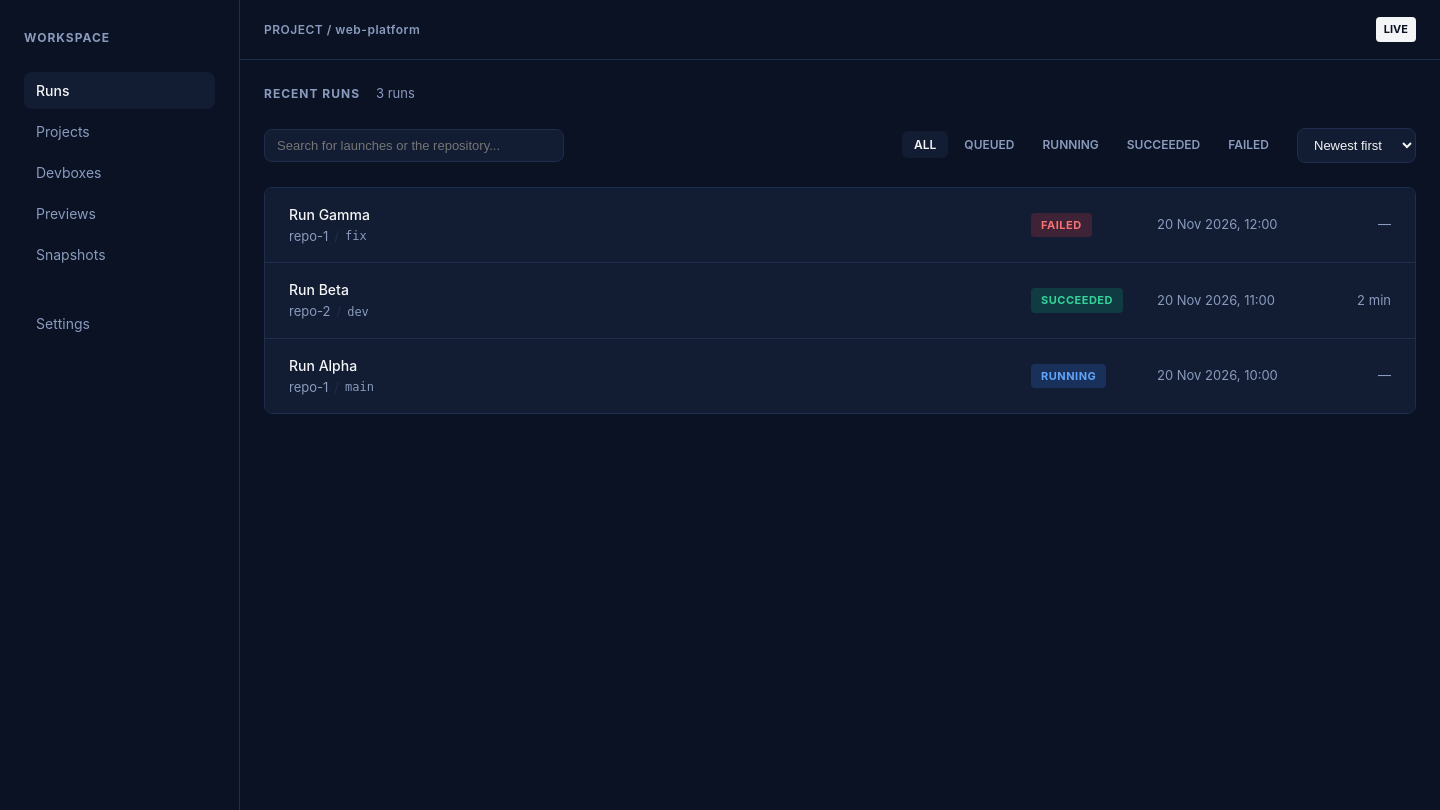
Test: App Integration Tests › 6. should display error styling in details drawer for a failed run
This screenshot has width=1440, height=810.
expect the heading "Run Beta" is shown: met, box [289,281,349,298]
Click the button with aria-label "Open launch details Run Gamma".
click(329, 214)  # box [265,188,1415,263]
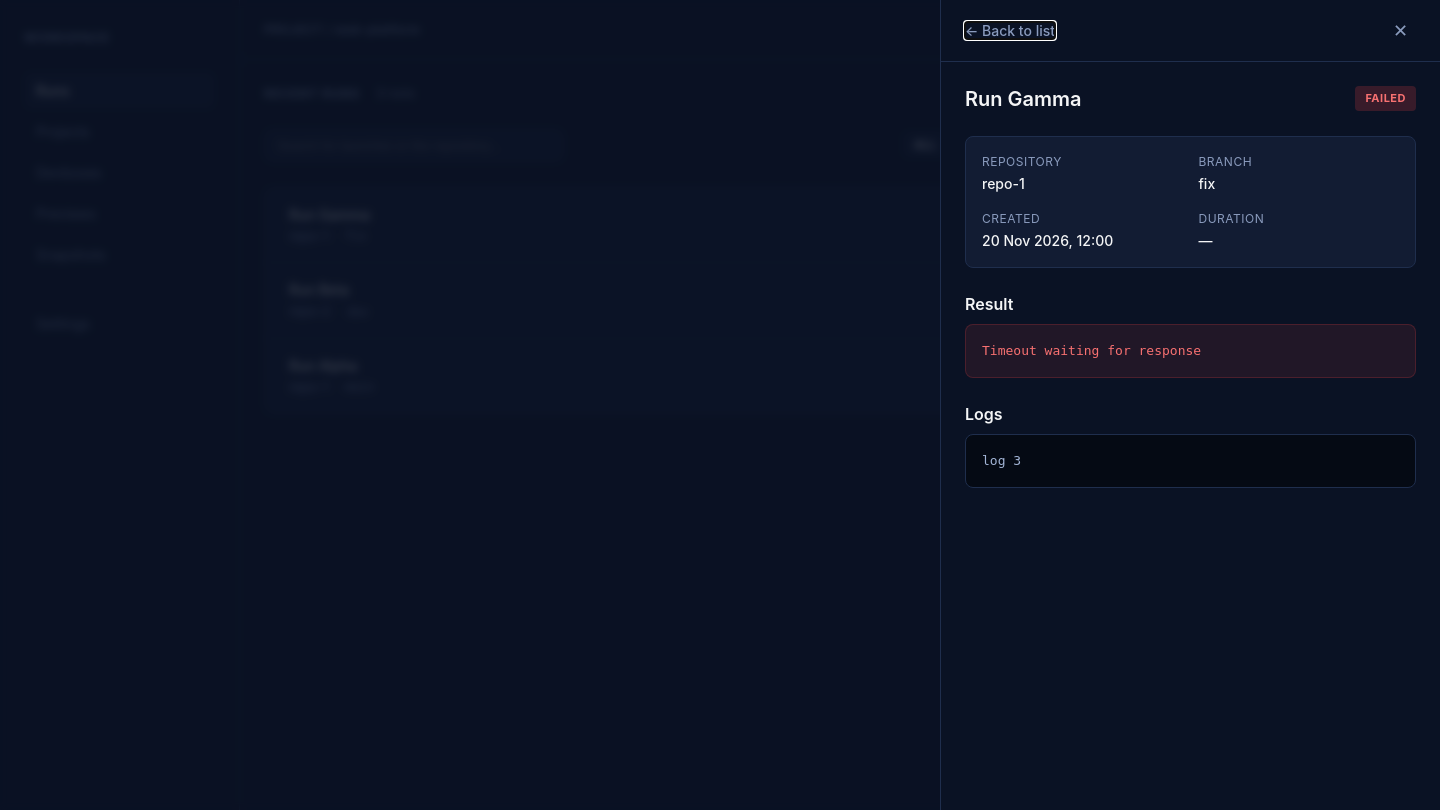
expect the dialog is shown: met, box [940,0,1439,809]
